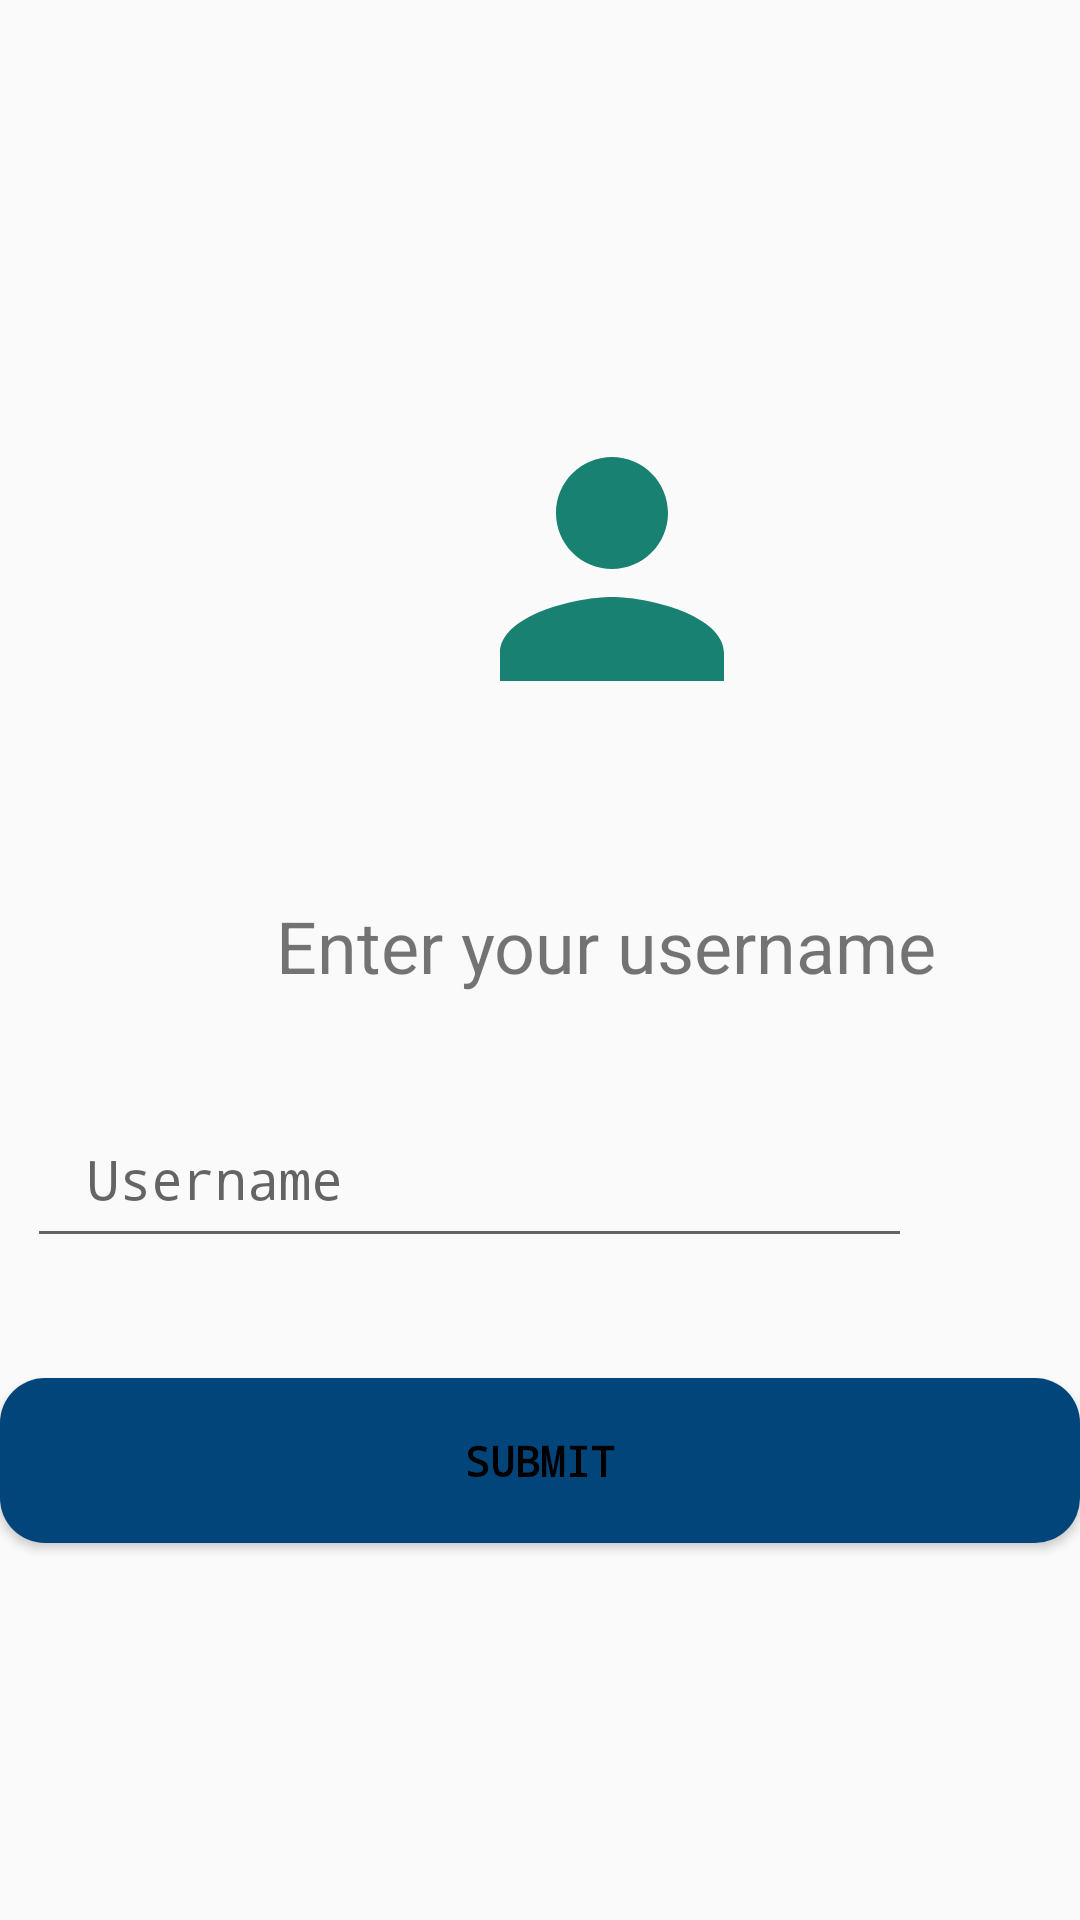

Where icons sit on this 1080×1920 app screen, as (x1, y1, x2, y2):
person: (500, 457, 724, 681)
